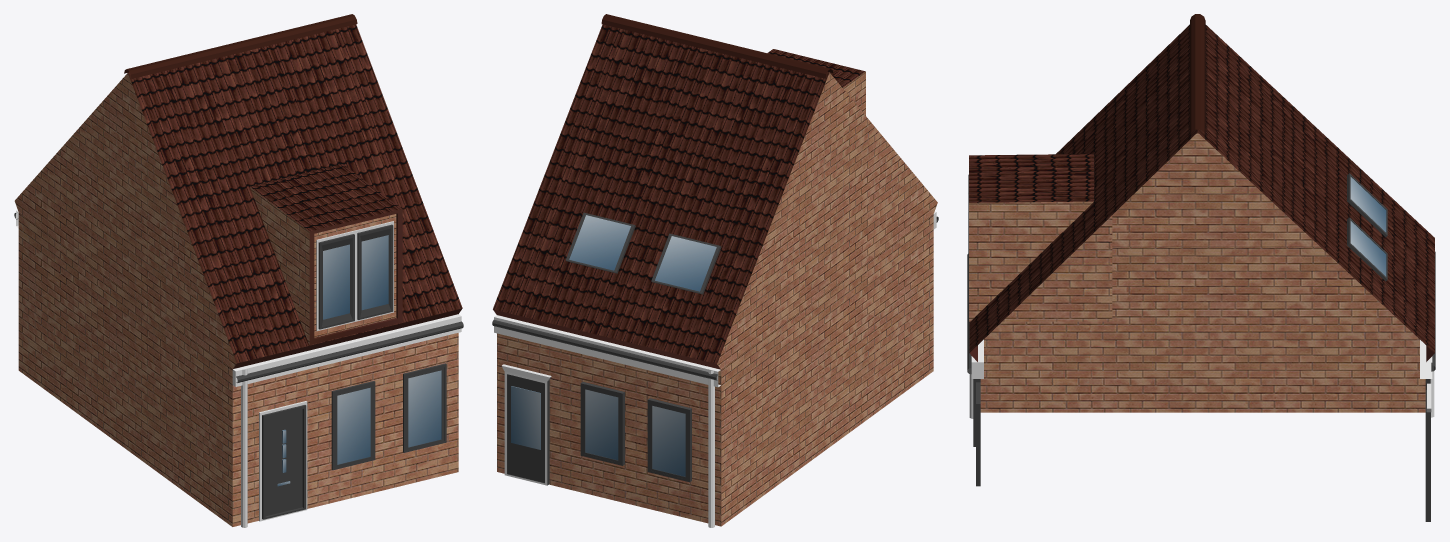
The model's file is It_Buthus_1.fbx.
3 views of the same model, side by side, from view 1: azimuth 30°, elevation 25°; view 2: azimuth 150°, elevation 25°; view 3: azimuth 270°, elevation 25° (orthographic). The views are drawn at different scales.
Parts seen in each view (by area): view 1: It_Buthus_1; view 2: It_Buthus_1; view 3: It_Buthus_1.
Boxes of the visible parts, bbox=[...] form: It_Buthus_1: bbox=[14, 14, 463, 527]; It_Buthus_1: bbox=[492, 14, 938, 527]; It_Buthus_1: bbox=[967, 14, 1435, 521].
Bounding box in the file's own units: 5.48 × 8.81 × 9.38.
